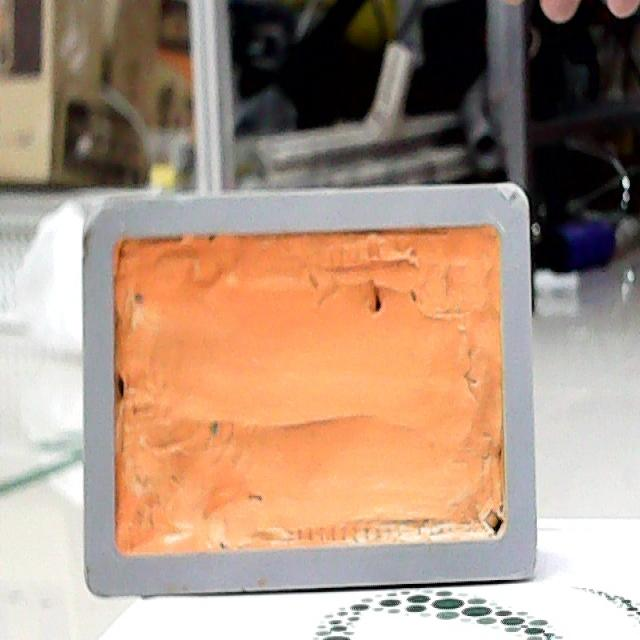block: (87, 216, 548, 584)
